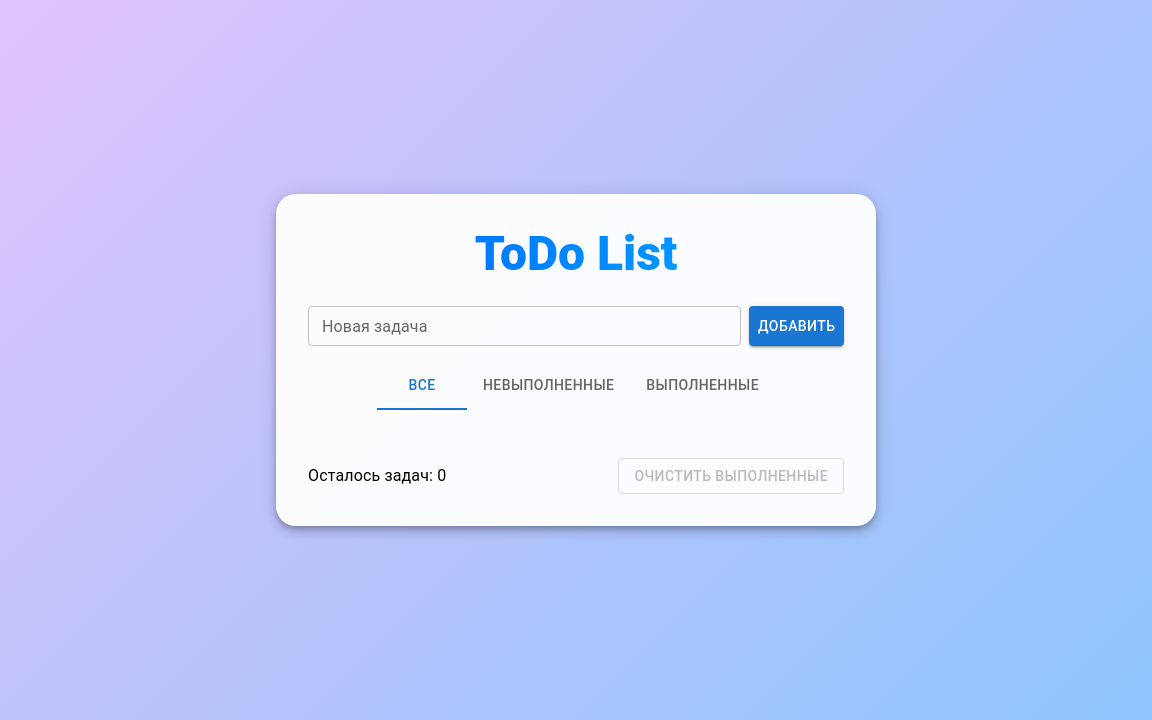
Test case: ToDo App functionality › shows correct remaining count
The width and height of the screenshot is (1152, 720).
Type "One" into the field labelled "Новая задача".
click(525, 326); type("One")  # box [308,306,742,346]
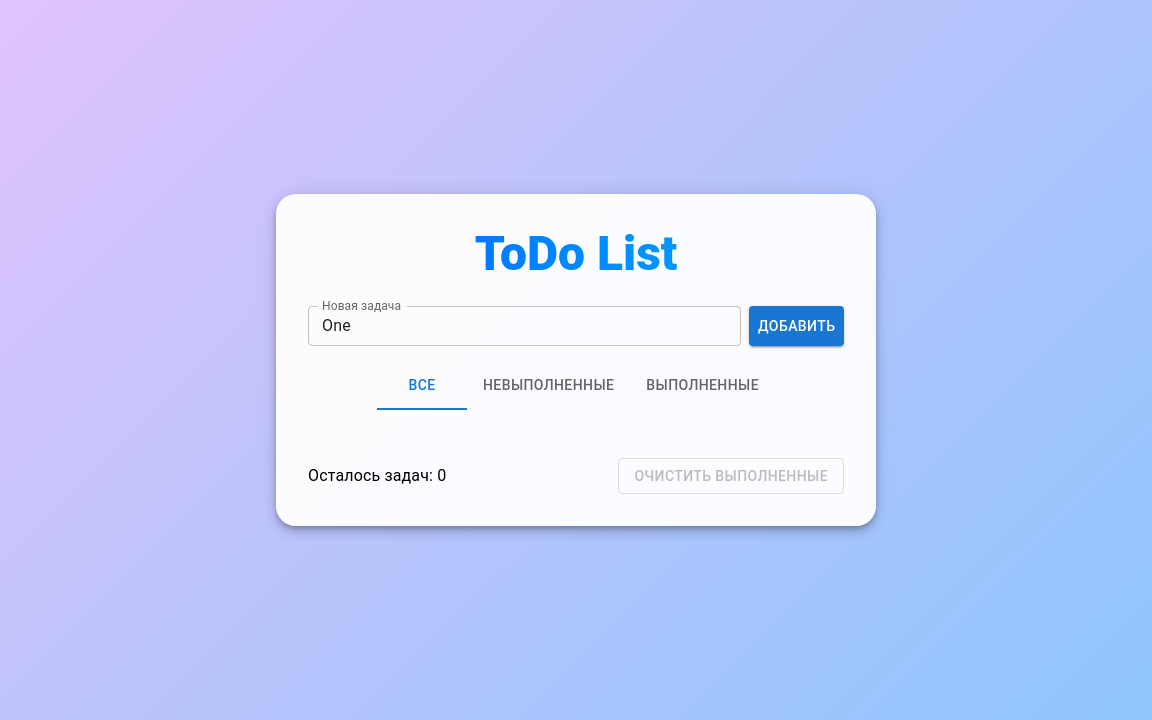
Click the button "Добавить".
click(797, 326)  # box [750,306,844,346]
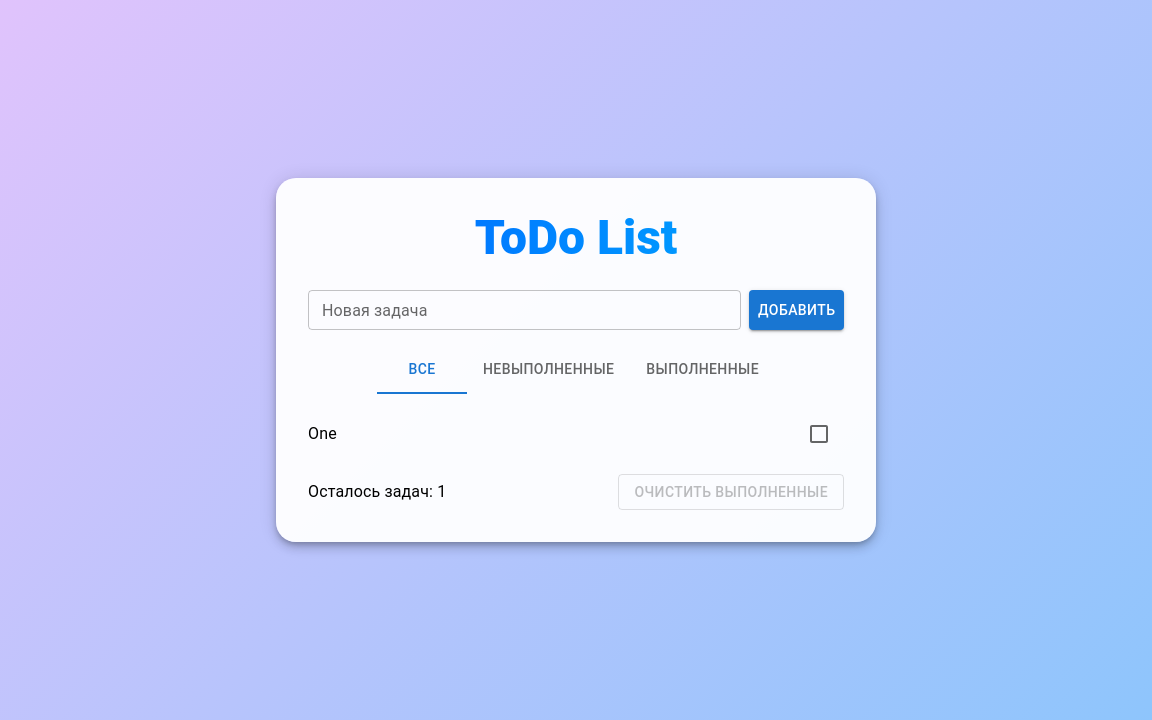
Type "Two" into the field labelled "Новая задача".
click(525, 310); type("Two")  # box [308,290,742,330]
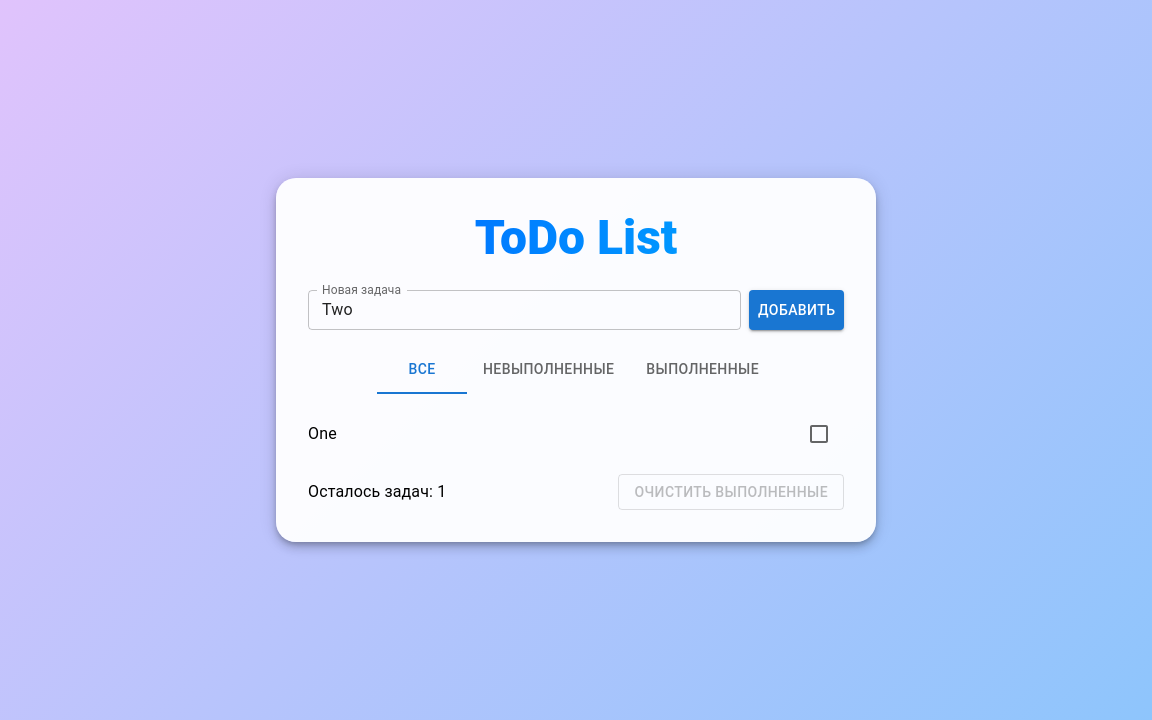
Click the button "Добавить".
click(797, 310)  # box [750,290,844,330]
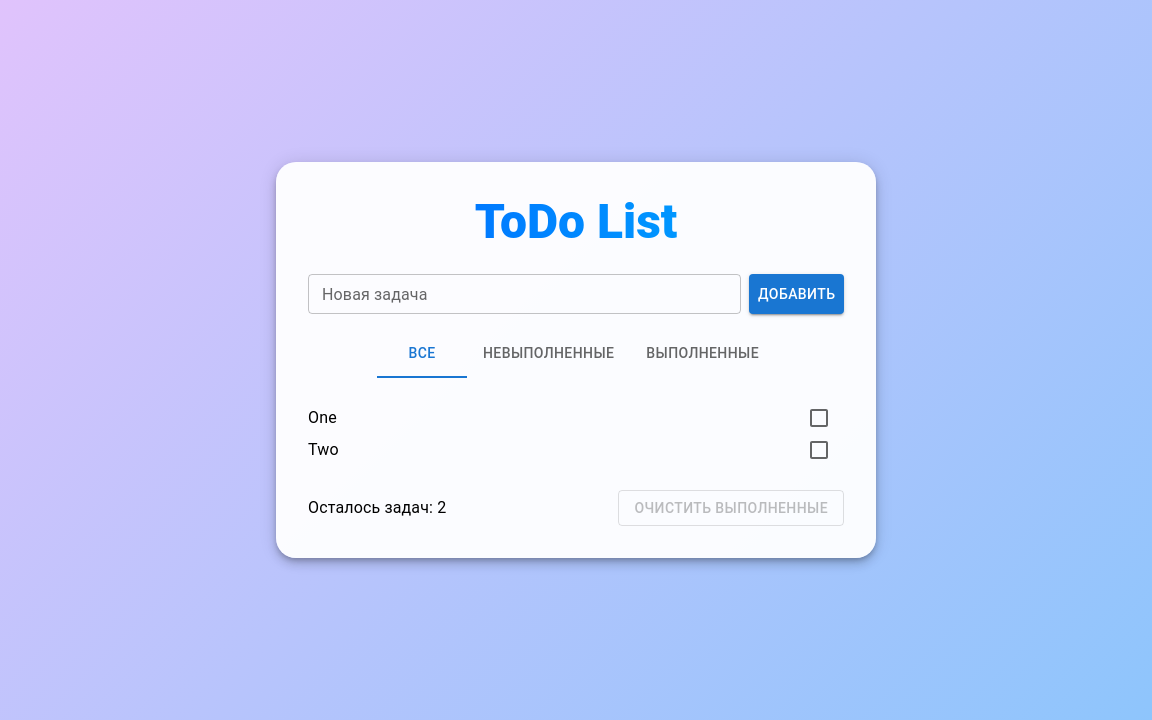
Result: the text "Осталось задач: 2" is shown at [308,496,446,520]
# complete one
Click the checkbox in the row of "One".
click(819, 418)  # box [807,406,831,430]
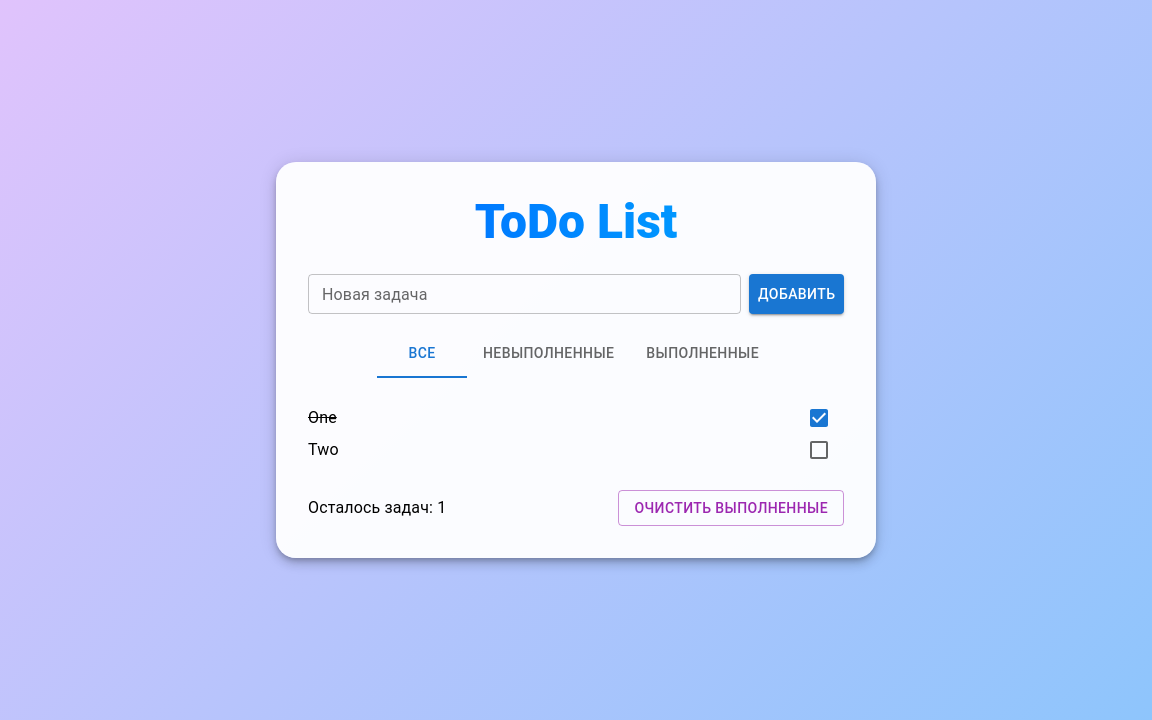
Result: the text "Осталось задач: 1" is shown at [308,496,446,520]
